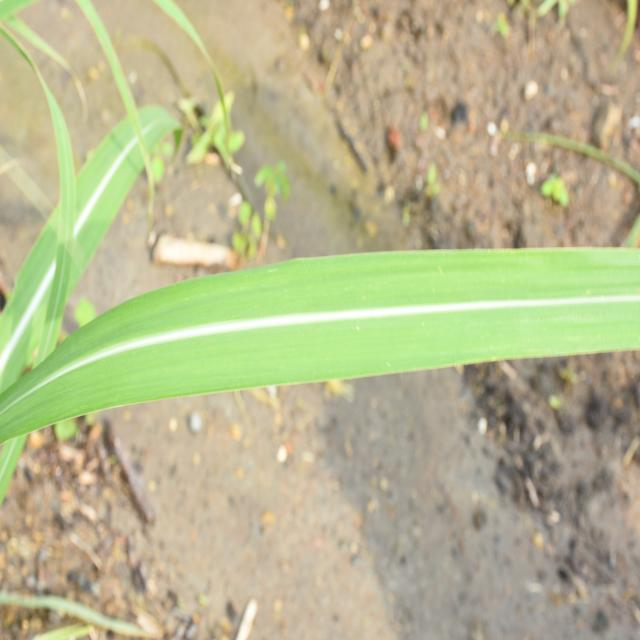Sugarcane: (0, 248, 640, 448)
